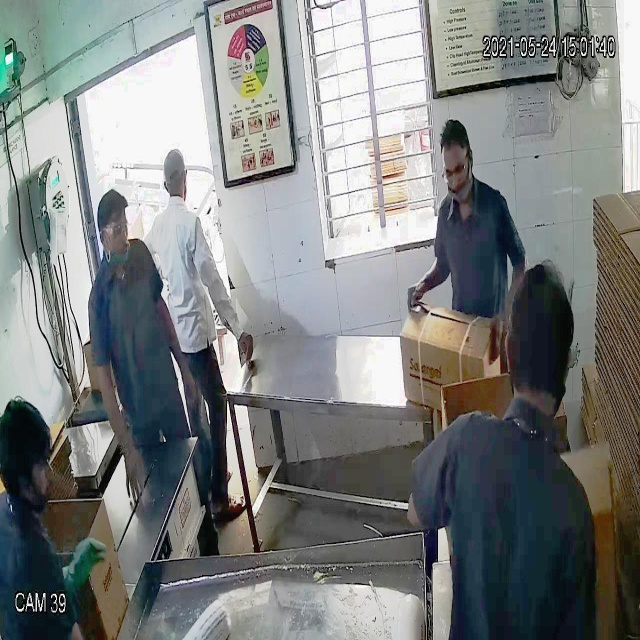Gafas: (438, 154, 475, 189), (95, 218, 132, 245)
